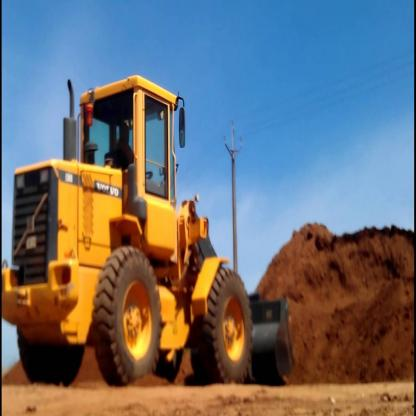bull_dozer/loader/grader: (5, 67, 305, 391)
